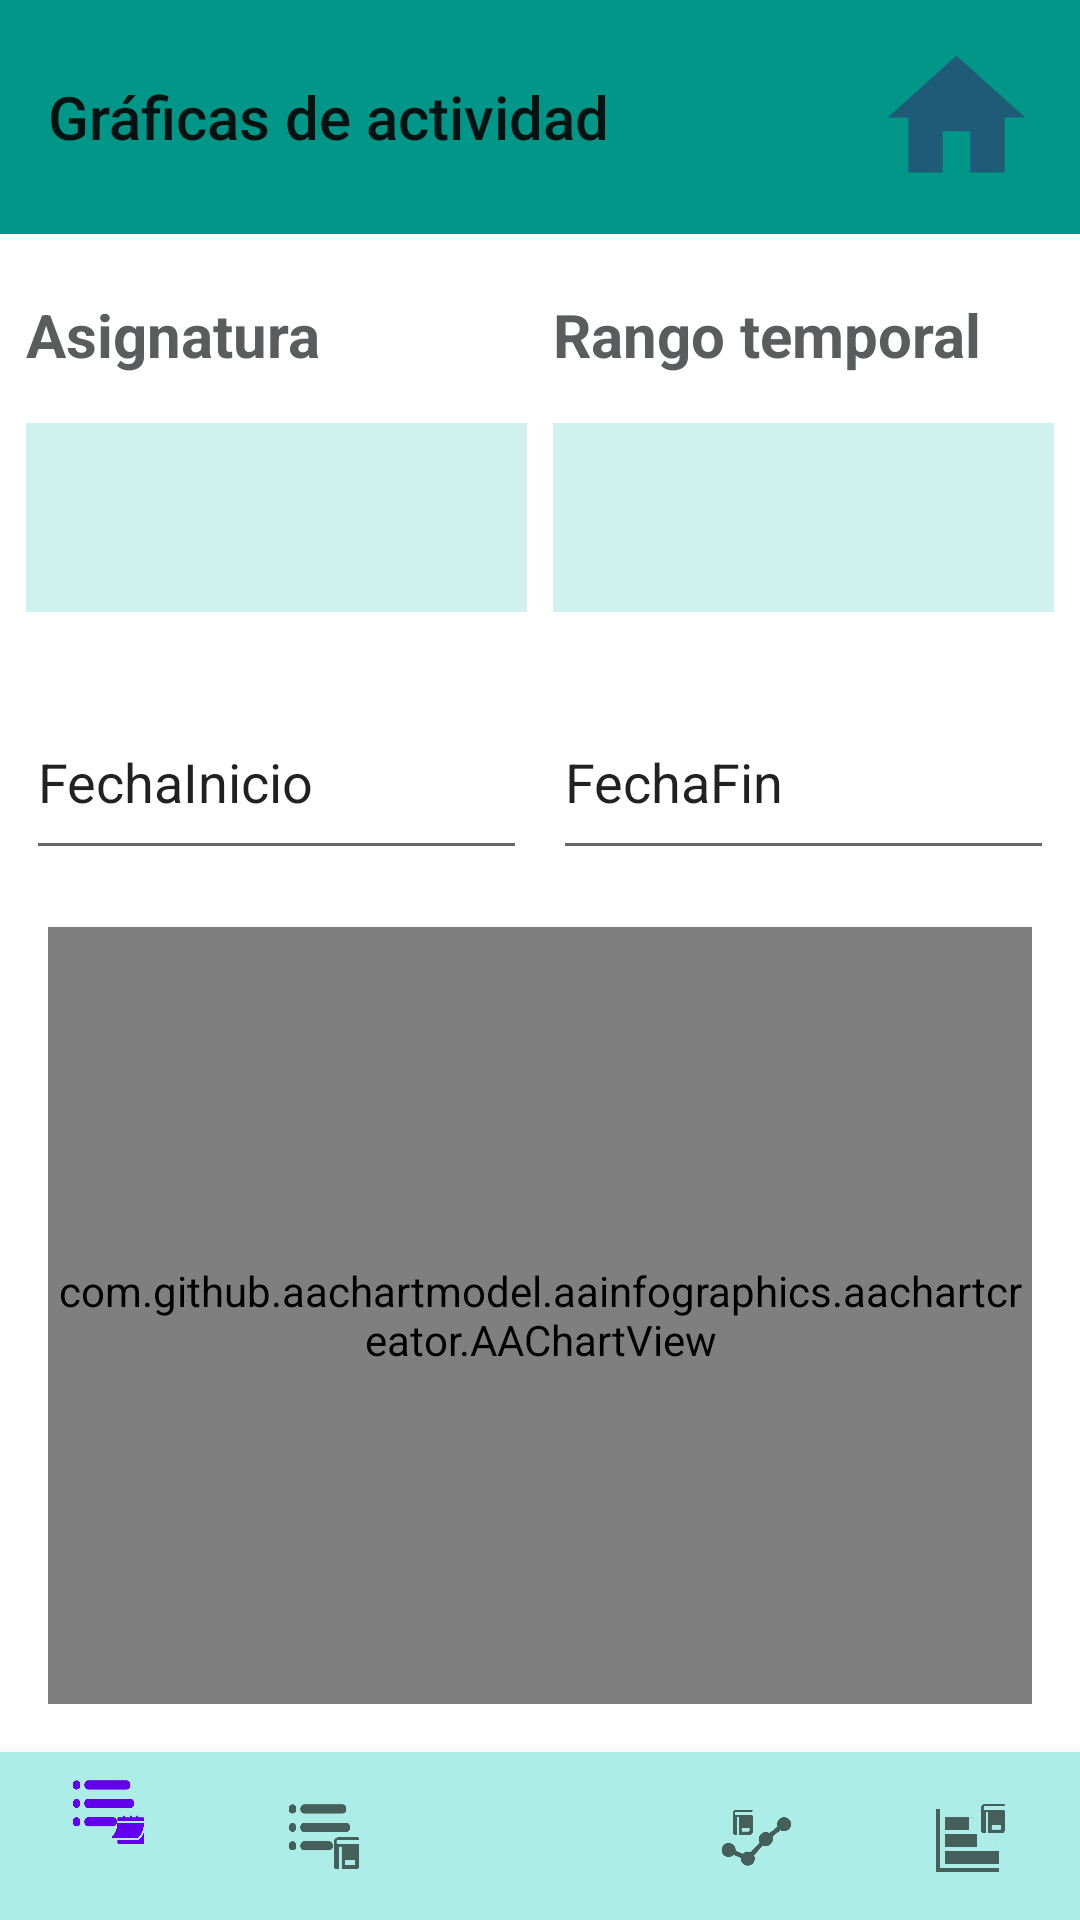

Named icons in this screenshot (1080 × 1920) and their bounding boxes, (x1, y1, x2, y2):
home: (888, 56, 1025, 173)
